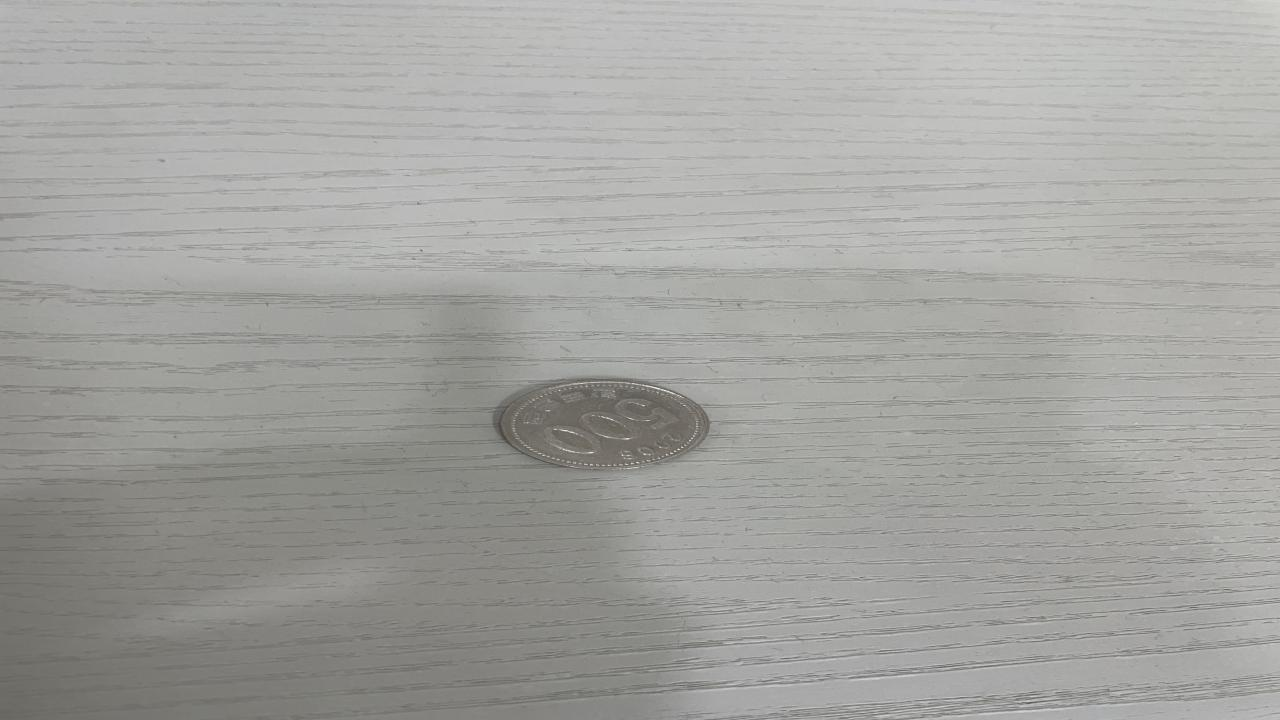coin: (493, 378, 719, 470)
